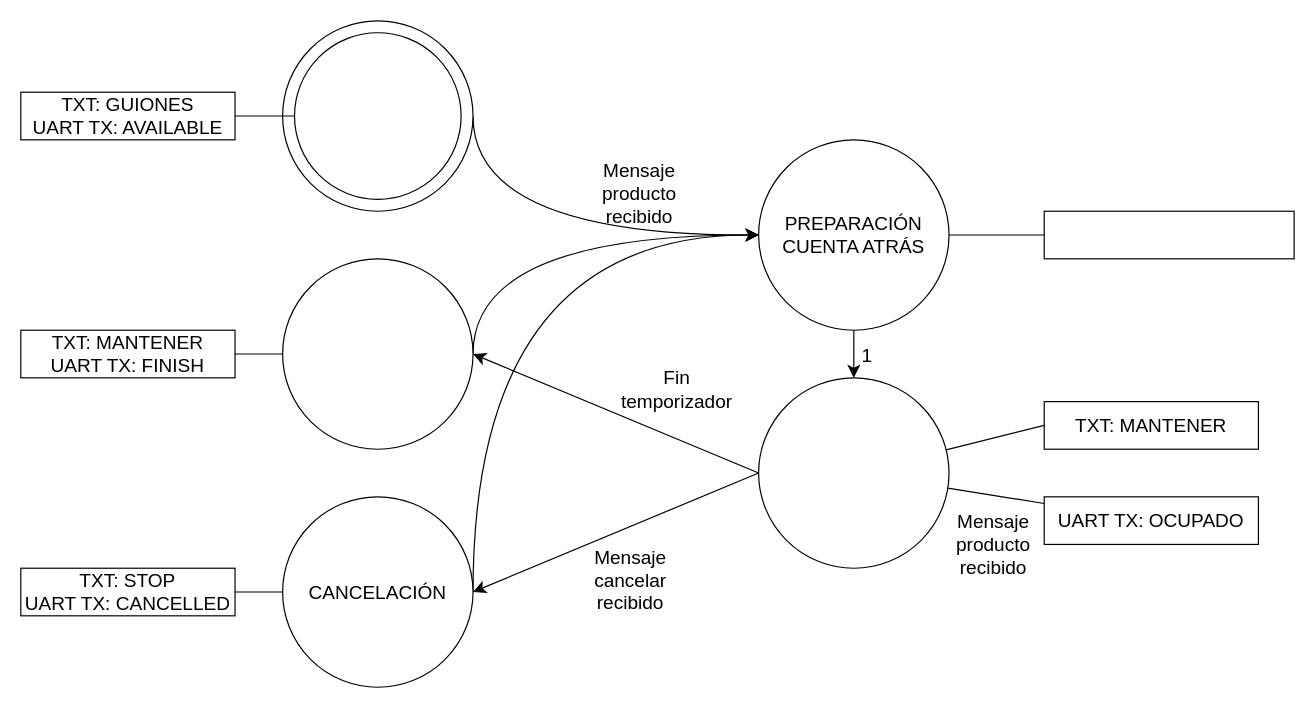
The diagram is 1315 pixels wide and 708 high, and some of its shapes have lost their labels. Each missing label, with the box of its shape:
CUENTA ATRÁS: (757, 377, 949, 568)
FINALIZACIÓN NORMAL: (281, 258, 473, 449)
INICIO: (293, 32, 461, 199)
TXT: CARGAR PRODUCTO UART TX: OCUPADO: (1043, 210, 1294, 259)
